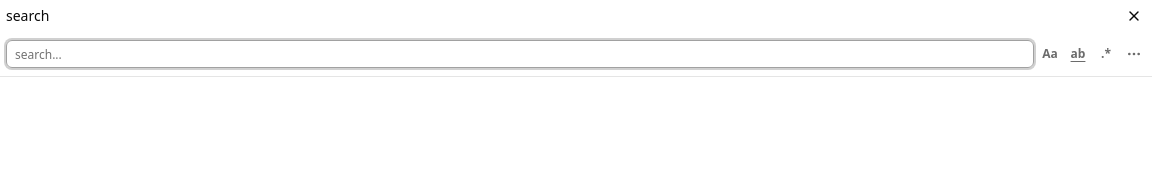
Test: WorkspaceSearchPanel › renders search input and header
Expected: the text "search" is shown, [6,6,49,26]
Expected: the text with test id "workspace-search-header" reads "search", [6,6,49,25]
What coordinates should you click on to do the following:
click the button with test id "workspace-search-filters-toggle"
I would click on:
 (1134, 54)
Its box is [1122,42,1146,66].
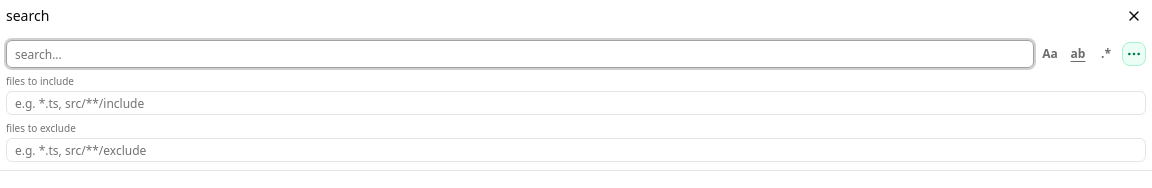
Expected: the field with test id "workspace-search-include" is shown, [6,91,1146,115]
Expected: the field with test id "workspace-search-exclude" is shown, [6,138,1146,162]
